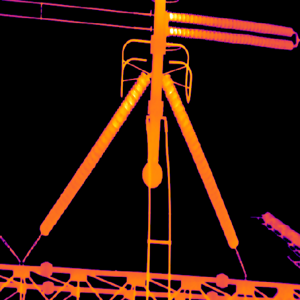insulator: (39, 70, 149, 235), (161, 73, 237, 248), (168, 8, 238, 43)
